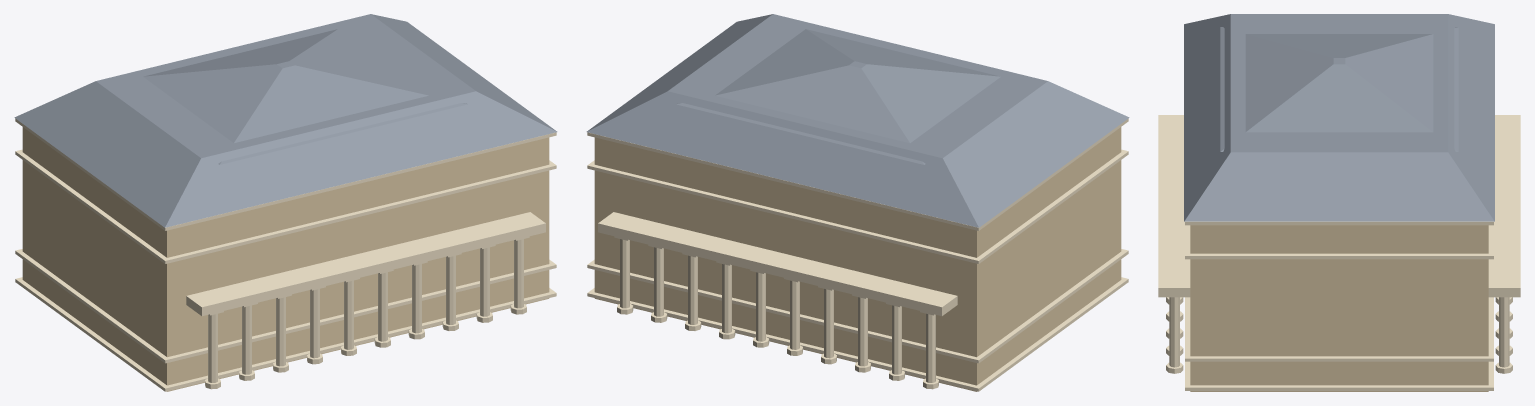
Rendered from heritage-0-lod2.glb.
3 views of the same model, side by side, from view 1: azimuth 30°, elevation 25°; view 2: azimuth 150°, elevation 25°; view 3: azimuth 270°, elevation 25° (orthographic). The views are drawn at different scales.
Parts seen in each view (by area): view 1: heritage-0_architecture; view 2: heritage-0_architecture; view 3: heritage-0_architecture.
Part boxes in pixels (left/top/right/bottom): heritage-0_architecture: left=14, top=14, right=557, bottom=391; heritage-0_architecture: left=586, top=14, right=1129, bottom=391; heritage-0_architecture: left=1158, top=14, right=1520, bottom=391.
Size of the model in its own units: 29.8 by 16.5 by 23.1.
